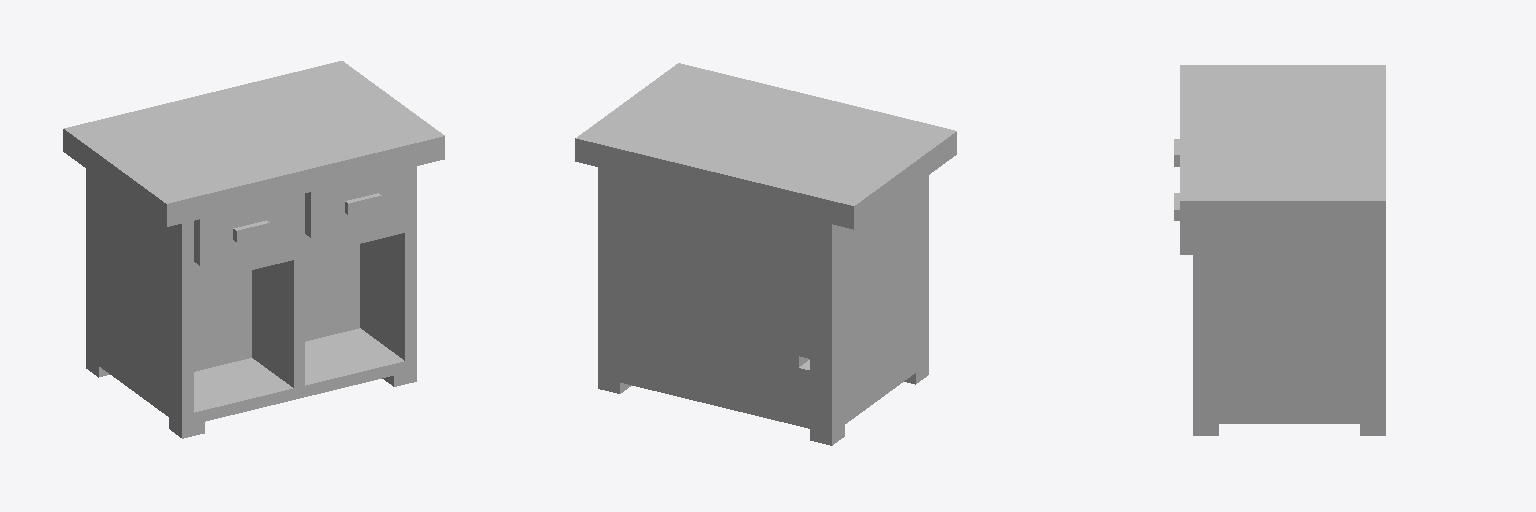
File: opendrawer.obj
The picture shows the model from 3 angles: view 1: azimuth 30°, elevation 25°; view 2: azimuth 150°, elevation 25°; view 3: azimuth 270°, elevation 25°; orthographic projection.
Parts seen in each view (by area): view 1: object 1; view 2: object 1; view 3: object 1.
Part boxes in pixels (x1,y1,x2,y2): object 1: (63,61,444,438); object 1: (575,63,956,445); object 1: (1174,65,1385,435).
Size of the model in its own units: 5 by 4.2 by 3.3.